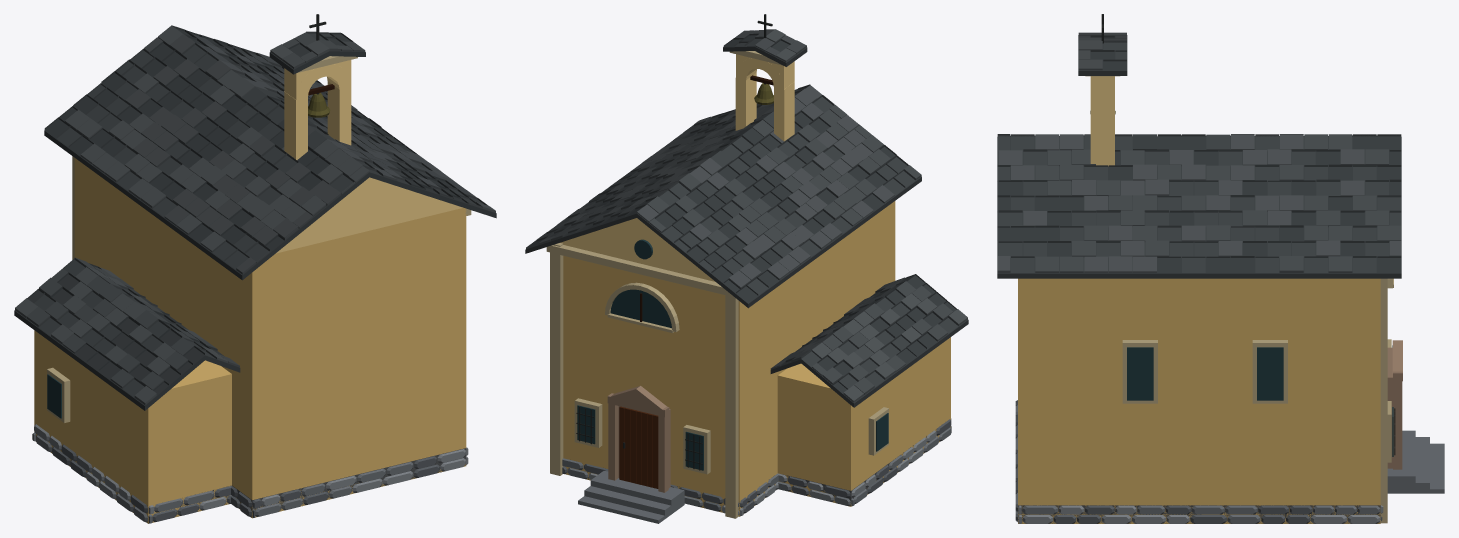
File: Chiesetta_Alpina_Campanile_a_Vela.obj
3 views of the same model, side by side, from view 1: azimuth 30°, elevation 25°; view 2: azimuth 150°, elevation 25°; view 3: azimuth 270°, elevation 25° (orthographic). The views are drawn at different scales.
Parts seen in each view (by area): view 1: Navata, Tetto_Navata_Lastre, Cappella_Laterale, Tetto_Laterale_Lastre, Zoccolo_Pietre, Frontoni, Tetto_Navata_Base, Campanile_Piedritti, Tetto_Campanile_Lastre, Tetto_Laterale_Base, Campanile_Arco, Zoccolo_Nucleo (+3 smaller); view 2: Navata, Tetto_Navata_Lastre, Cappella_Laterale, Tetto_Laterale_Lastre, Lesene_Facciata, Zoccolo_Pietre, Frontoni, Gradini_Ingresso, Porta_Tavole, Tetto_Navata_Base, Campanile_Piedritti, Cornicione_Facciata (+10 smaller); view 3: Navata, Tetto_Navata_Lastre, Zoccolo_Pietre, Tetto_Navata_Base, Vetri_Navata, Gradini_Ingresso, Lesene_Facciata, Cornici_Navata, Tetto_Campanile_Lastre, Campanile_Piedritti, Zoccolo_Nucleo, Portale_Stipiti (+1 smaller).
Part boxes in pixels (<box>): Navata: <box>74,158,466,518</box>; Tetto_Navata_Lastre: <box>44,25,495,274</box>; Cappella_Laterale: <box>34,330,231,523</box>; Tetto_Laterale_Lastre: <box>15,257,239,404</box>; Zoccolo_Pietre: <box>32,424,468,523</box>; Frontoni: <box>276,177,462,253</box>; Tetto_Navata_Base: <box>44,130,496,280</box>; Campanile_Piedritti: <box>284,81,351,159</box>; Tetto_Campanile_Lastre: <box>270,31,365,68</box>; Tetto_Laterale_Base: <box>14,310,240,410</box>; Campanile_Arco: <box>296,64,350,99</box>; Zoccolo_Nucleo: <box>52,446,466,523</box>; Navata: <box>563,201,895,516</box>; Tetto_Navata_Lastre: <box>526,84,921,302</box>; Cappella_Laterale: <box>777,337,950,506</box>; Tetto_Laterale_Lastre: <box>770,274,967,402</box>; Lesene_Facciata: <box>550,243,738,518</box>; Zoccolo_Pietre: <box>562,418,951,516</box>; Frontoni: <box>560,218,715,281</box>; Gradini_Ingresso: <box>578,470,684,523</box>; Porta_Tavole: <box>619,406,658,488</box>; Tetto_Navata_Base: <box>525,176,921,308</box>; Campanile_Piedritti: <box>735,73,794,141</box>; Cornicione_Facciata: <box>546,245,734,297</box>; Navata: <box>1018,278,1380,523</box>; Tetto_Navata_Lastre: <box>997,134,1401,272</box>; Zoccolo_Pietre: <box>1015,400,1383,523</box>; Tetto_Navata_Base: <box>997,136,1401,278</box>; Vetri_Navata: <box>1127,347,1283,400</box>; Gradini_Ingresso: <box>1387,430,1444,493</box>; Lesene_Facciata: <box>1380,278,1387,523</box>; Cornici_Navata: <box>1122,340,1287,403</box>; Tetto_Campanile_Lastre: <box>1078,32,1126,70</box>; Campanile_Piedritti: <box>1090,104,1114,166</box>; Zoccolo_Nucleo: <box>1018,505,1380,523</box>; Portale_Stipiti: <box>1393,381,1402,469</box>.
Size of the model in its own units: 9.85 by 12.77 by 11.36.
